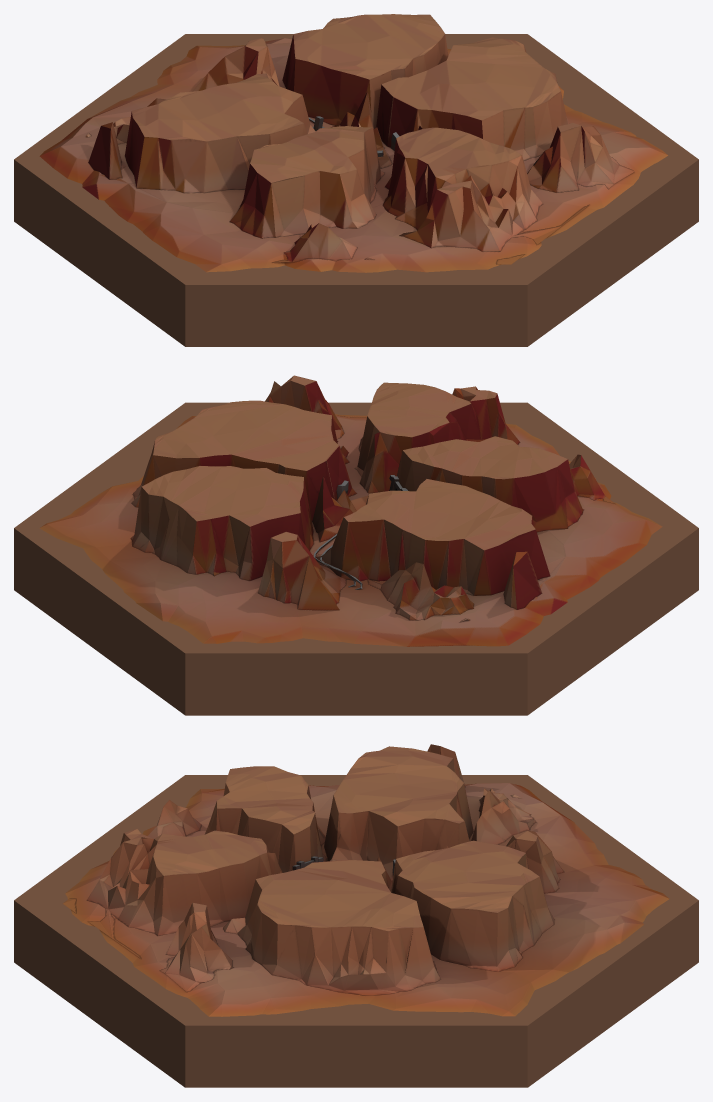
The model's file is mesa.glb.
The picture shows the model from 3 angles, top to bottom: view 1: azimuth 30°, elevation 25°; view 2: azimuth 150°, elevation 25°; view 3: azimuth 270°, elevation 25°; orthographic projection.
Visible parts, largest first — view 1: Cylinder_146; view 2: Cylinder_146; view 3: Cylinder_146.
Part boxes in pixels (x1,y1,x2,y2): Cylinder_146: (14,14,698,346); Cylinder_146: (14,375,698,715); Cylinder_146: (14,744,698,1087).
Bounding box in the file's own units: 17.32 × 4.03 × 20.
Materials: 6 (5 with a texture image).
